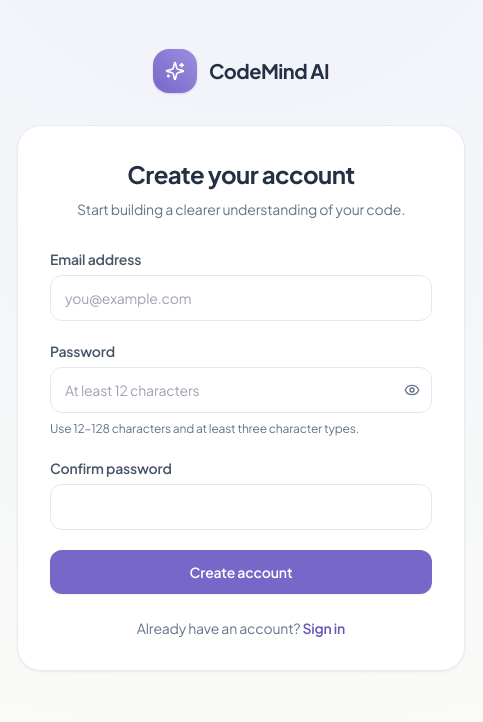
authentication forms › rejects mismatched registration passwords before sending a request
Type "developer@example.test" into the field labelled "Email address".
click(241, 298); type("developer@example.test")  # box 50,275 -> 432,321
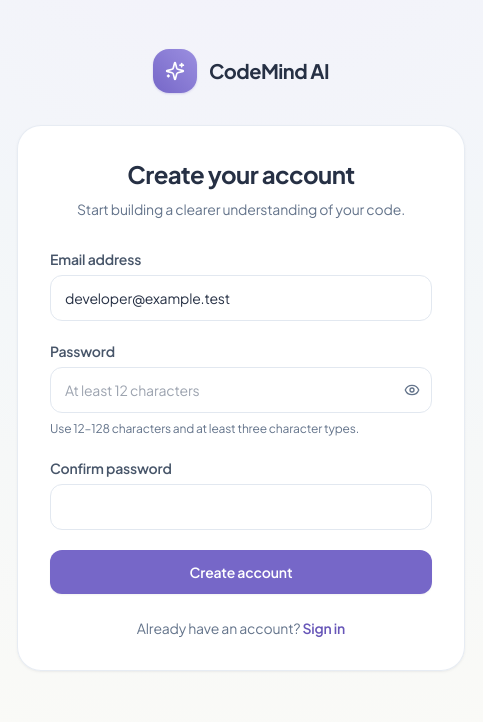
Type "StrongPassword123!" into the password field labelled "Password".
click(241, 390); type("StrongPassword123!")  # box 50,367 -> 432,413
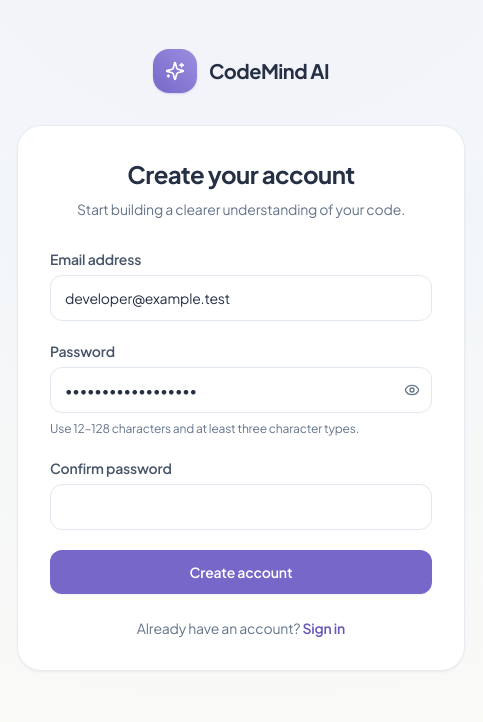
Type "DifferentPassword456!" into the password field labelled "Confirm password".
click(241, 507); type("DifferentPassword456!")  # box 50,484 -> 432,530
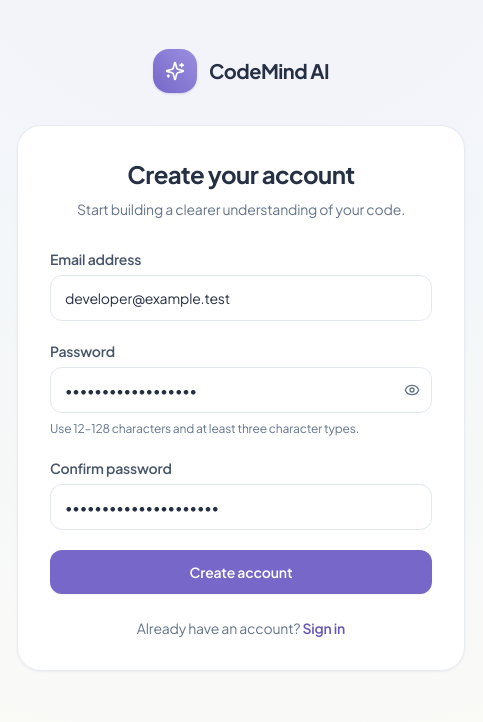
Click the button "Create account".
click(241, 572)  # box 50,550 -> 432,594
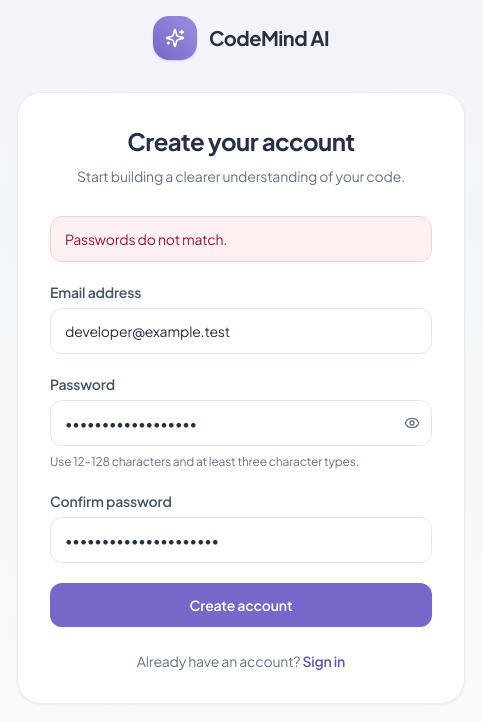
expect the message reads "Passwords do not match.": met, box 65,230 -> 227,248
